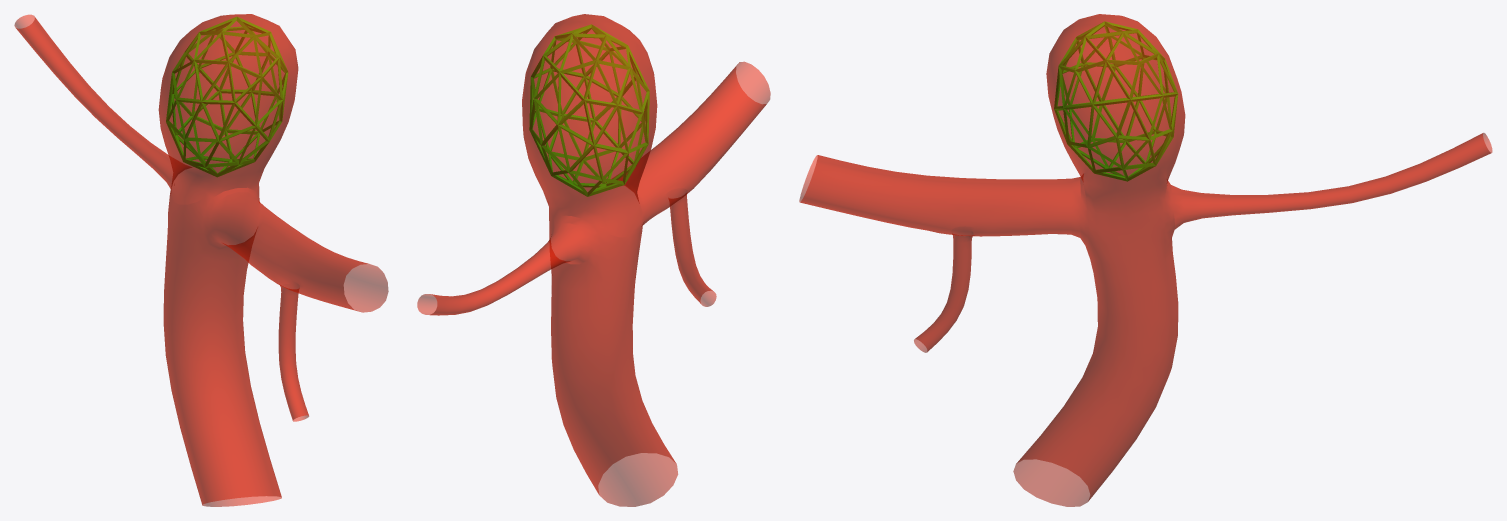
Rendered from aneurysm.glb.
3 renders of one model, left to right at view 1: azimuth 30°, elevation 25°; view 2: azimuth 150°, elevation 25°; view 3: azimuth 270°, elevation 25°, orthographic. The views are drawn at different scales.
Parts seen in each view (by area): view 1: Cube, Icosphere; view 2: Cube, Icosphere; view 3: Cube, Icosphere.
Part boxes in pixels (bbox=[...]): Cube: bbox=[14, 14, 388, 506]; Icosphere: bbox=[166, 17, 288, 177]; Cube: bbox=[417, 14, 770, 506]; Icosphere: bbox=[529, 24, 649, 196]; Cube: bbox=[799, 14, 1492, 506]; Icosphere: bbox=[1054, 21, 1178, 181].
Size of the model in its own units: 0.3557 by 1.38 by 1.79.
